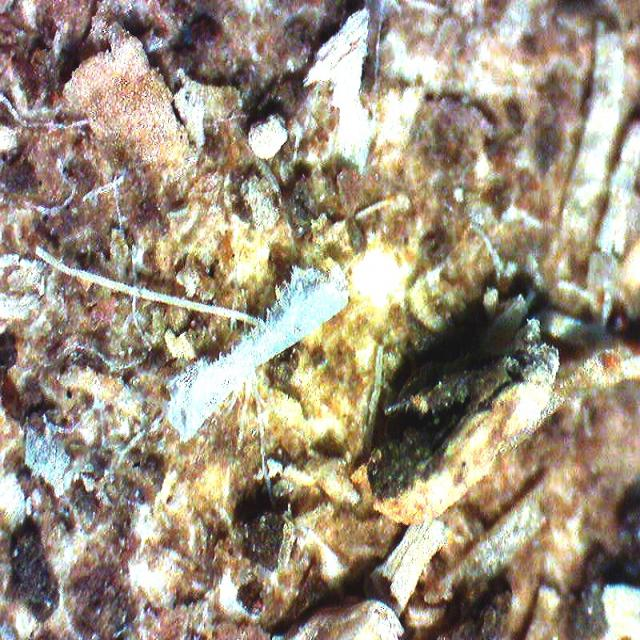microplastic: (164, 263, 353, 445)
